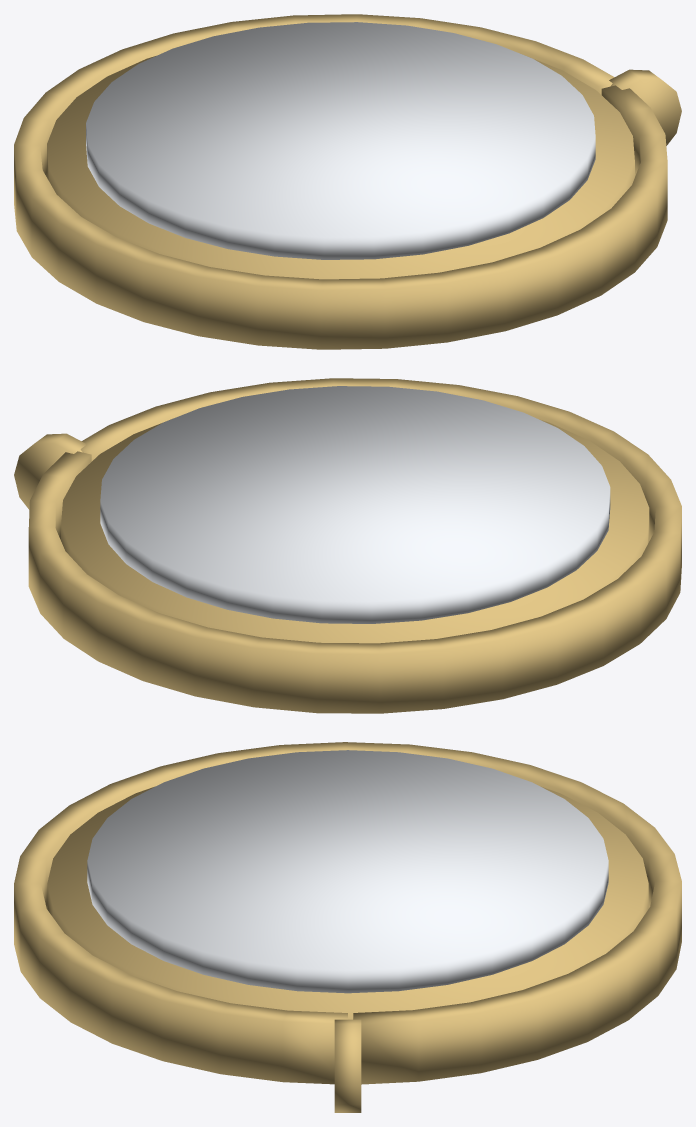
The model's file is Taschenspiegel.glb.
3 renders of one model, top to bottom at view 1: azimuth 30°, elevation 25°; view 2: azimuth 150°, elevation 25°; view 3: azimuth 270°, elevation 25°, orthographic. The views are drawn at different scales.
Visible parts, largest first — view 1: Taschenspiegel; view 2: Taschenspiegel; view 3: Taschenspiegel.
Part boxes in pixels (x1,y1,x2,y2): Taschenspiegel: (14,14,681,349); Taschenspiegel: (14,378,681,713); Taschenspiegel: (14,742,681,1112).
Bounding box in the file's own units: 0.109 × 0.0168 × 0.1.
